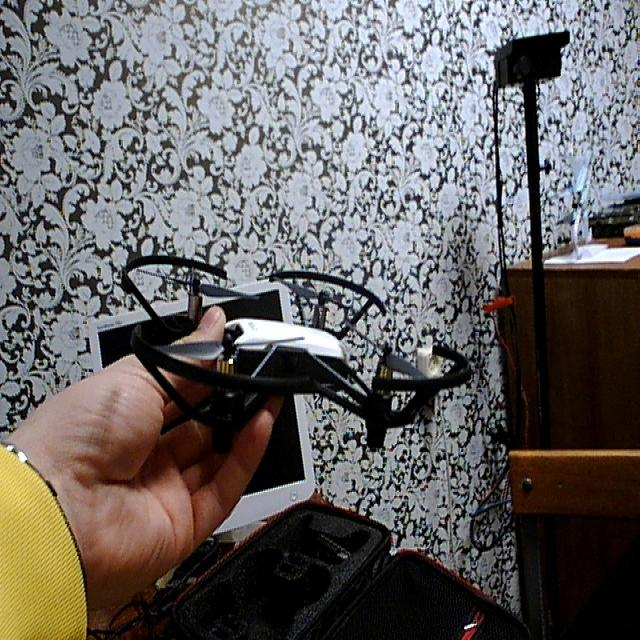drone: (114, 232, 477, 470)
